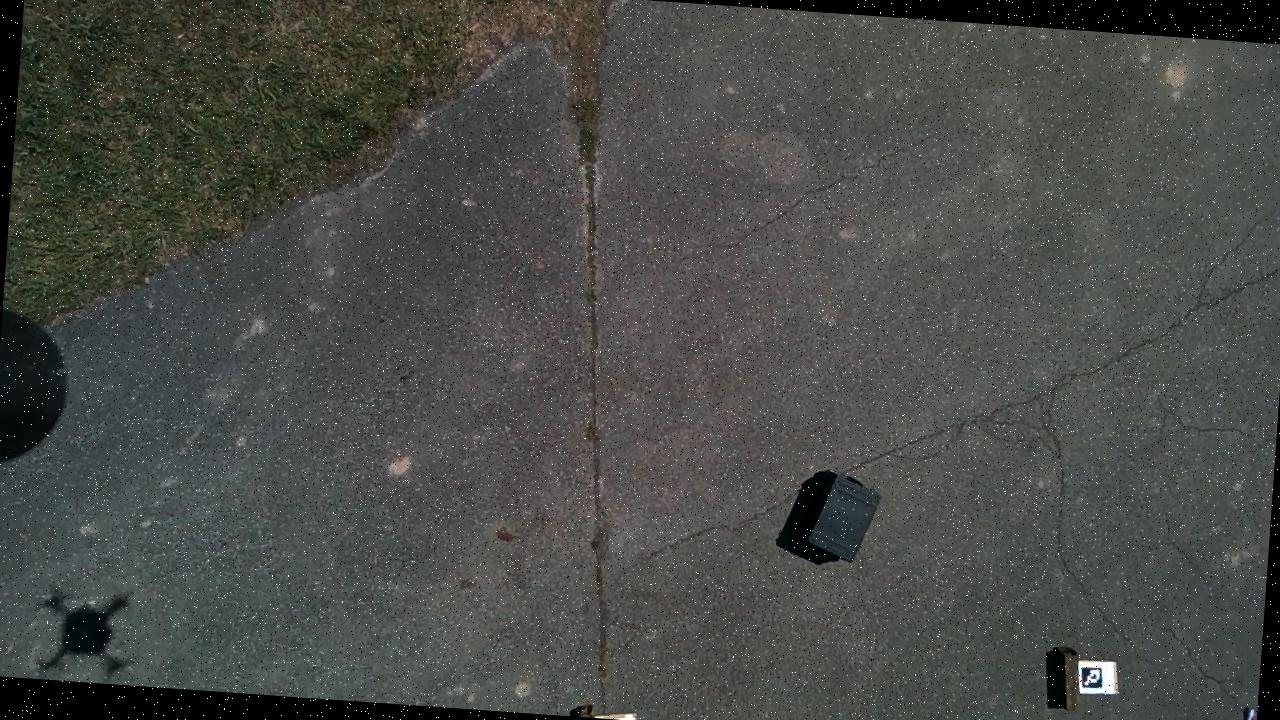probes: (1242, 708, 1257, 720)
rako: (804, 472, 880, 563)
